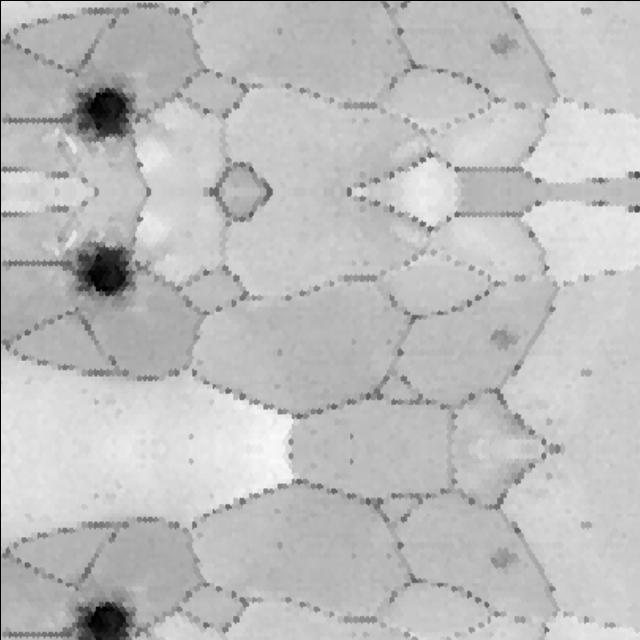good_void: (63, 234, 154, 316), (63, 67, 154, 148), (68, 584, 150, 640), (489, 327, 520, 352), (489, 546, 520, 571), (489, 31, 520, 56), (572, 363, 594, 386), (572, 512, 594, 535), (270, 345, 289, 362), (270, 536, 289, 553), (270, 21, 289, 38), (130, 213, 145, 226), (130, 157, 145, 170), (345, 429, 358, 443), (345, 455, 358, 469), (392, 347, 405, 360), (392, 538, 405, 551), (392, 23, 405, 36), (183, 429, 195, 442), (183, 456, 195, 469), (285, 436, 295, 449), (285, 449, 295, 462)
